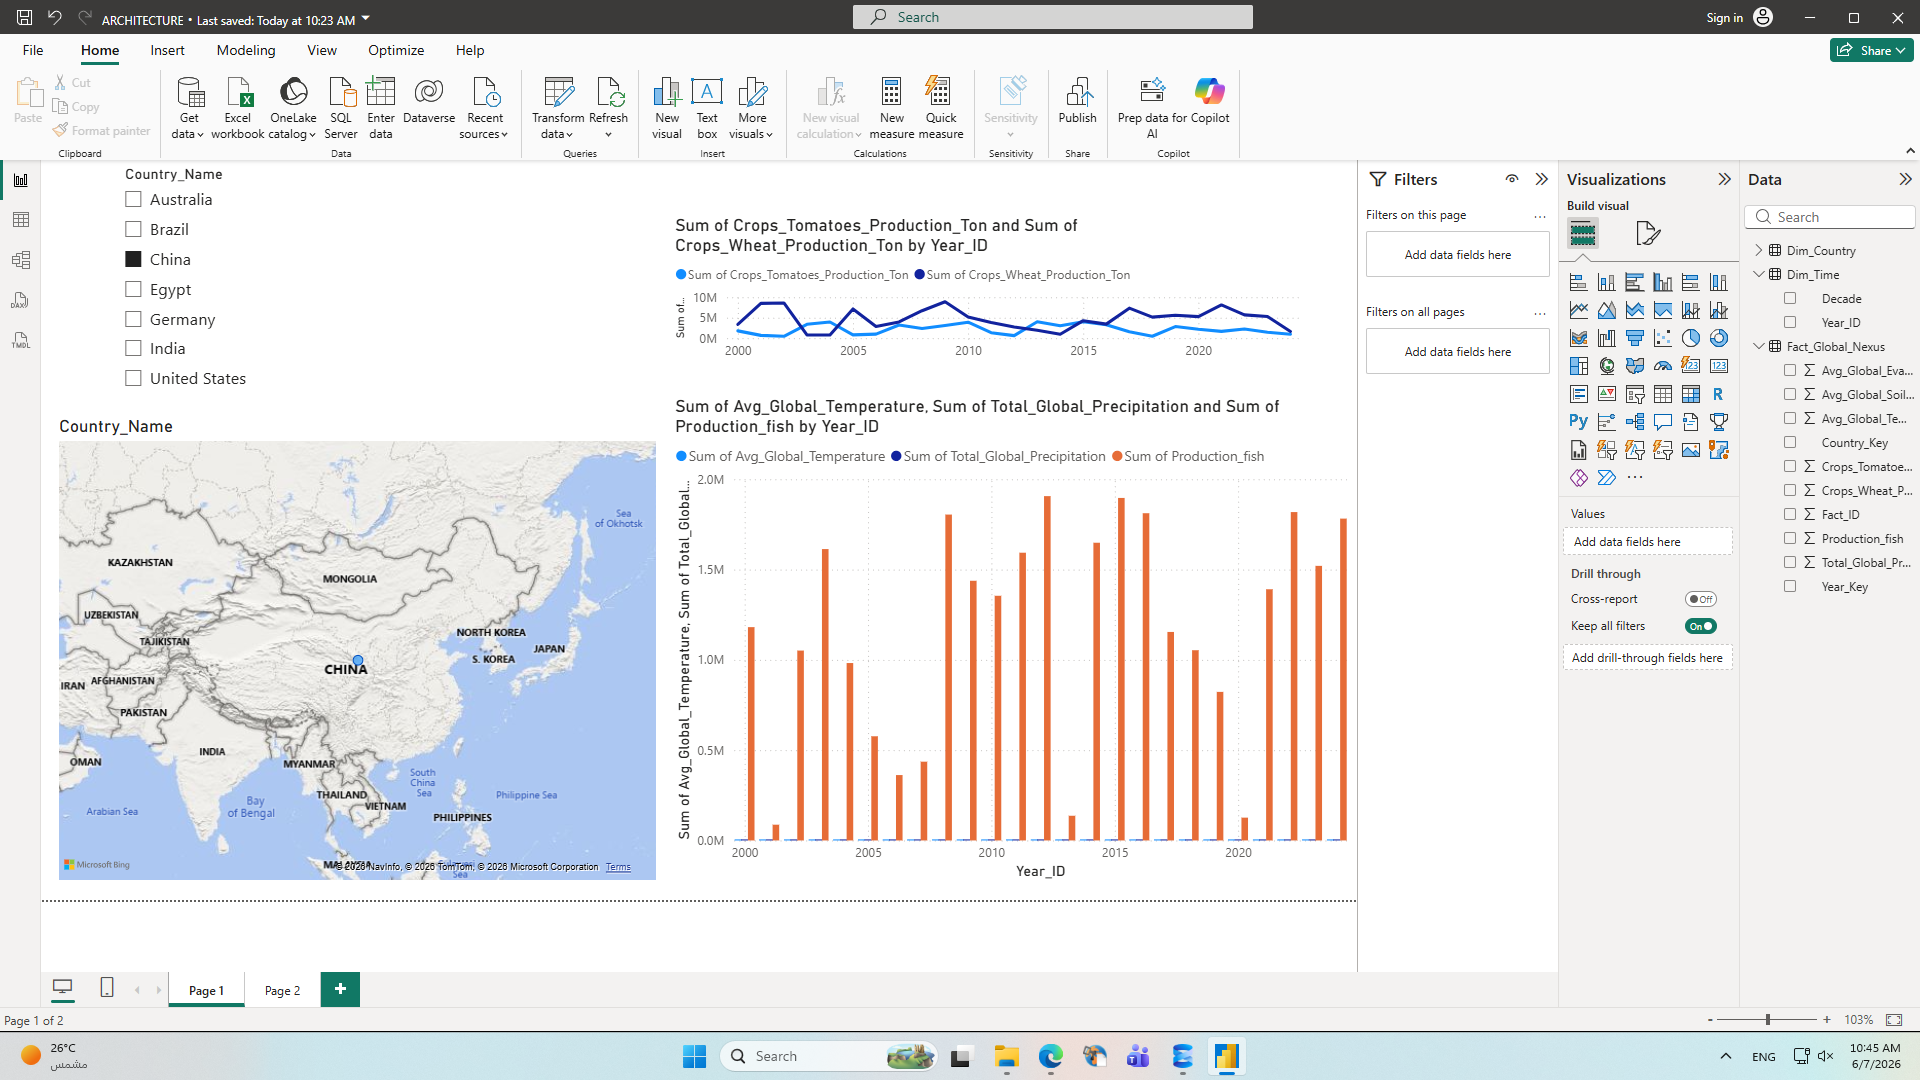

The page's visual inventory and layout, read from the dashboard file:
{"tool":"powerbi","page":{"name":"Page 1","canvas":[1280,720],"ordinal":0},"visuals":[{"type":"slicer","fields":{"Values":["Dim_Country.Country_Name"]},"box":[69.1,0,280.1,280.1],"z":0},{"type":"lineChart","fields":{"Category":["Dim_Time.Year_ID"],"Y":["Sum(Fact_Global_Nexus.Crops_Tomatoes_Production_Ton)","Sum(Fact_Global_Nexus.Crops_Wheat_Production_Ton)"]},"box":[611.8,53.5,621.5,149.8],"z":1000},{"type":"map","fields":{"Category":["Dim_Country.Country_Name"]},"box":[12.6,249,591.4,456.2],"z":2000},{"type":"clusteredColumnChart","fields":{"Y":["Sum(Fact_Global_Nexus.Avg_Global_Temperature)","Sum(Fact_Global_Nexus.Total_Global_Precipitation)","Sum(Fact_Global_Nexus.Production_MT)"],"Category":["Dim_Time.Year_ID"]},"box":[611.8,229.5,668.2,475.6],"z":3000}]}

Visuals, with their boxes on the page's 1280x720 design canvas (x1, y1, x2, y2). These are canvas units, not pixel positions in the 1920x1080 screenshot, which may show the page scaled, cropped or inside an application window:
slicer - Dim_Country.Country_Name: [69,0,349,280]
lineChart - Dim_Time.Year_ID x Sum(Fact_Global_Nexus.Crops_Tomatoes_Production_Ton): [612,54,1233,203]
map - Dim_Country.Country_Name: [13,249,604,705]
clusteredColumnChart - Sum(Fact_Global_Nexus.Avg_Global_Temperature) x Sum(Fact_Global_Nexus.Total_Global_Precipitation): [612,230,1280,705]
